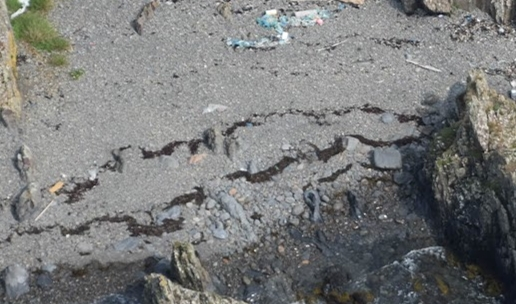net: (221, 5, 337, 54)
straight_bar: (403, 53, 444, 75)
white_in_green: (34, 166, 79, 205)
